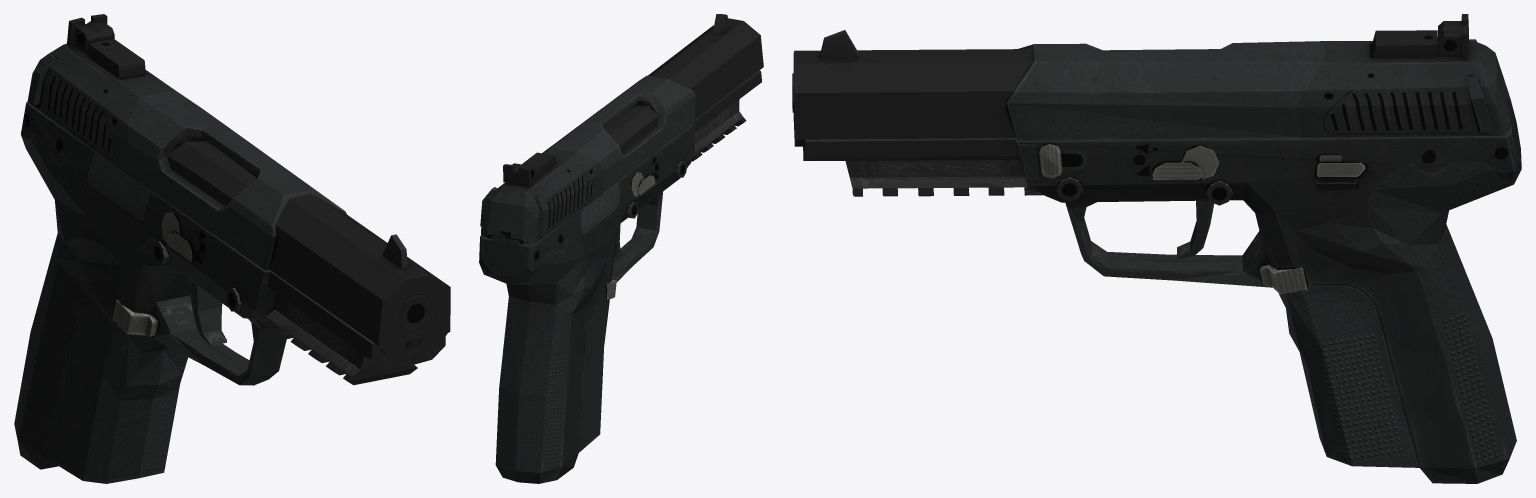
File: w_pist_fiveseven.obj
3 views of the same model, side by side, from view 1: azimuth 30°, elevation 25°; view 2: azimuth 150°, elevation 25°; view 3: azimuth 270°, elevation 25° (orthographic). The views are drawn at different scales.
Parts seen in each view (by area): view 1: w_pist_fiveseven; view 2: w_pist_fiveseven; view 3: w_pist_fiveseven.
Boxes of the visible parts, x1,y1,x2,y2 form: w_pist_fiveseven: [14, 14, 450, 483]; w_pist_fiveseven: [479, 14, 763, 483]; w_pist_fiveseven: [792, 14, 1521, 483].
Size of the model in its own units: 1.93 by 6.89 by 10.07.
1 material, 1 textured.
